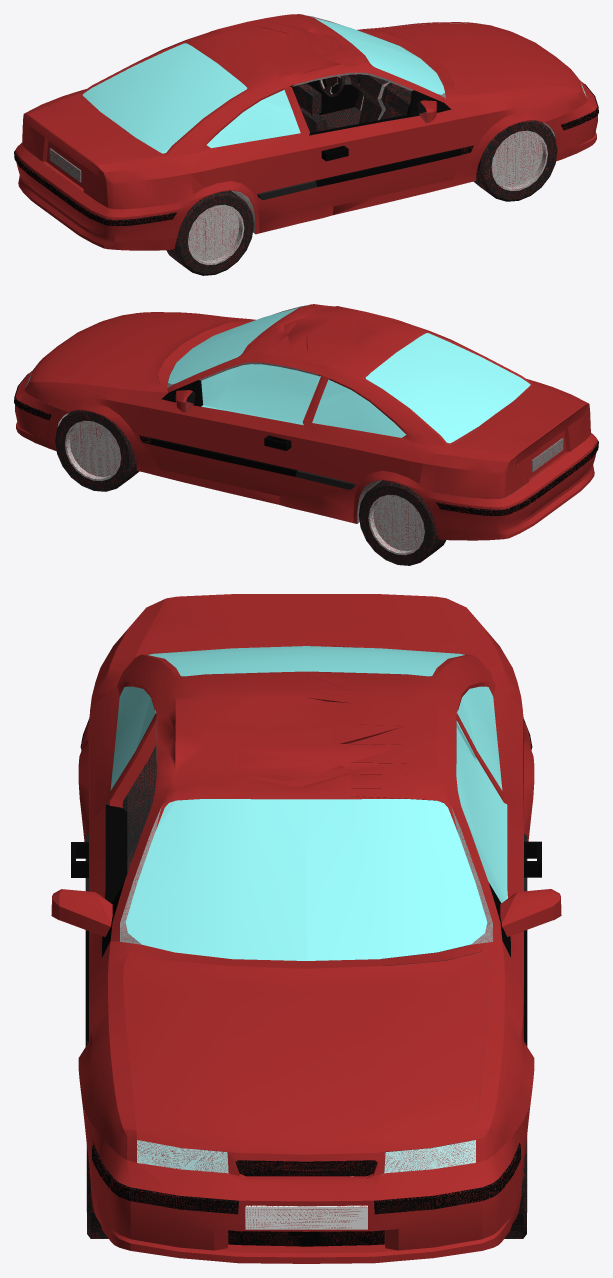
File: DamagedCarA.dae
The picture shows the model from 3 angles, top to bottom: view 1: azimuth 30°, elevation 25°; view 2: azimuth 150°, elevation 25°; view 3: azimuth 270°, elevation 25°; orthographic projection. The views are drawn at different scales.
Parts seen in each view (by area): view 1: car_2_2 (×13), skpB179 (×3), door_BL_4 (×4), skp141D; view 2: car_2_2 (×9), skp141D (×4), door_BL_4 (×4); view 3: car_2_2 (×12), door_BL_4 (×4), skp141D (×3), skpB179 (×3).
Part boxes in pixels (x1,y1,x2,y2): car_2_2 (×13): [14, 14, 597, 275]; skpB179 (×3): [309, 90, 461, 206]; door_BL_4 (×4): [198, 86, 333, 233]; skp141D: [290, 79, 358, 114]; car_2_2 (×9): [15, 304, 598, 565]; skp141D (×4): [151, 364, 320, 496]; door_BL_4 (×4): [279, 376, 414, 522]; car_2_2 (×12): [78, 594, 534, 1263]; door_BL_4 (×4): [89, 686, 523, 821]; skp141D (×3): [456, 720, 561, 978]; skpB179 (×3): [51, 805, 127, 1040].
Bounding box in the file's own units: 180 × 77.32 × 54.51.
